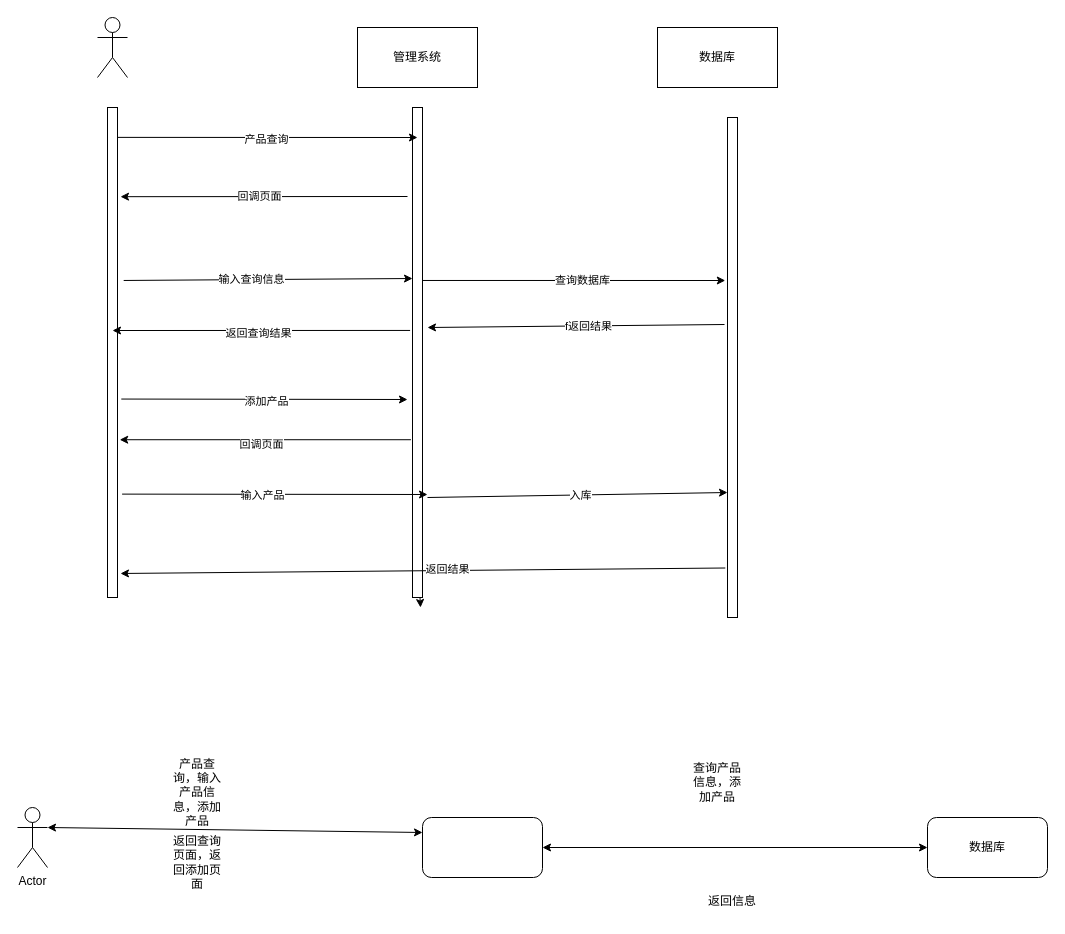
The diagram is 1065 pixels wide and 934 high, and some of its shapes have lost their labels. Here are the shapes that lost their labels. From the top down, the box of each, then its label:
(96, 16, 128, 78): 管理员
(422, 816, 542, 878): 系统
